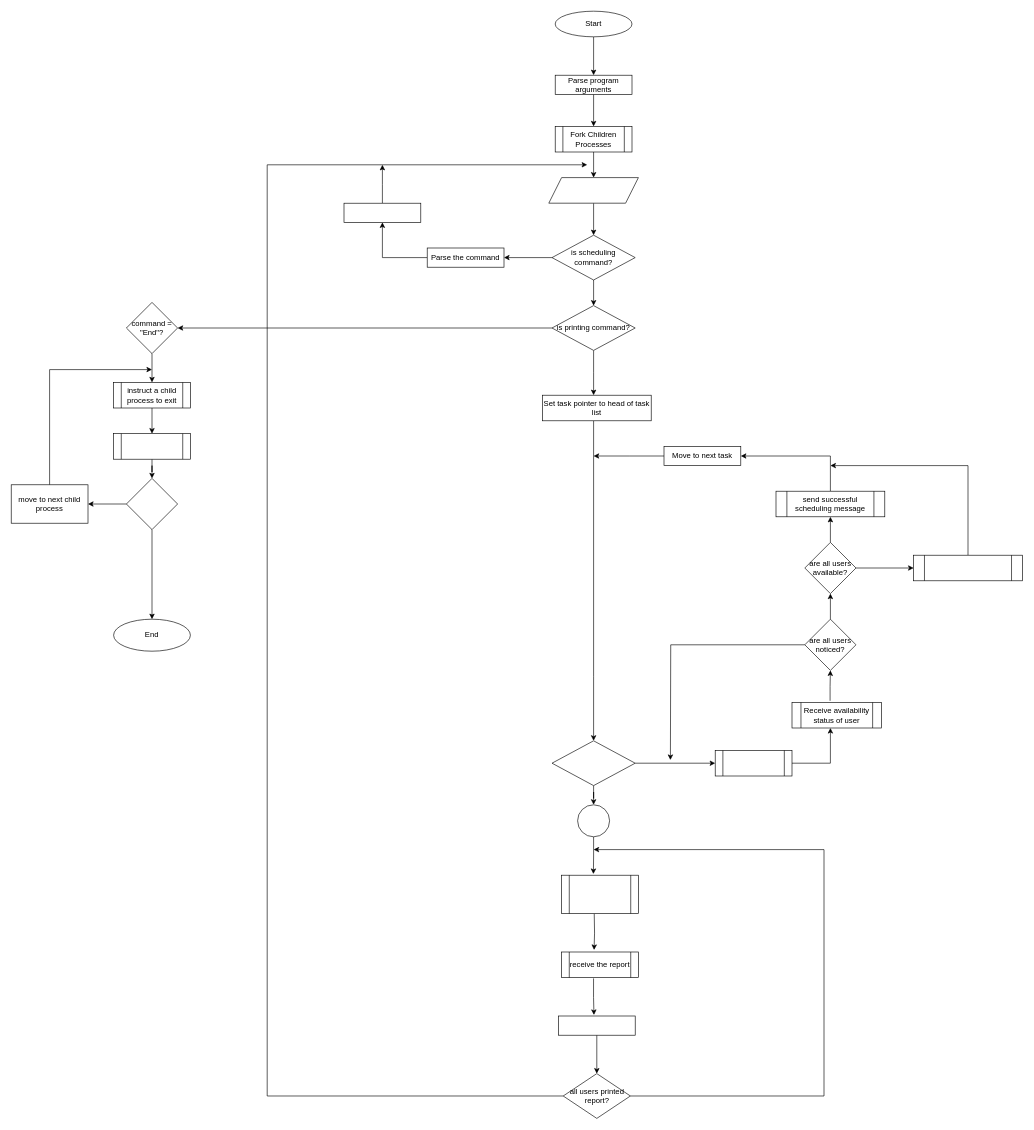
The diagram is 1034 pixels wide and 1130 high, and some of its shapes have lost their labels. Here are the shapes that lost their labels. From the top down, the box of each, then its label:
(548, 177, 638, 203): Read user command
(343, 203, 421, 222): add task to the list
(113, 433, 190, 459): collect the child process
(126, 478, 178, 530): are all children collected?
(913, 555, 1022, 581): send "rejected" scheduling message
(551, 740, 635, 786): pointer IS NULL?
(715, 750, 792, 776): Send task detail to user pipe
(561, 875, 638, 914): ask child the scheduling report
(558, 1015, 635, 1035): Print the report details
